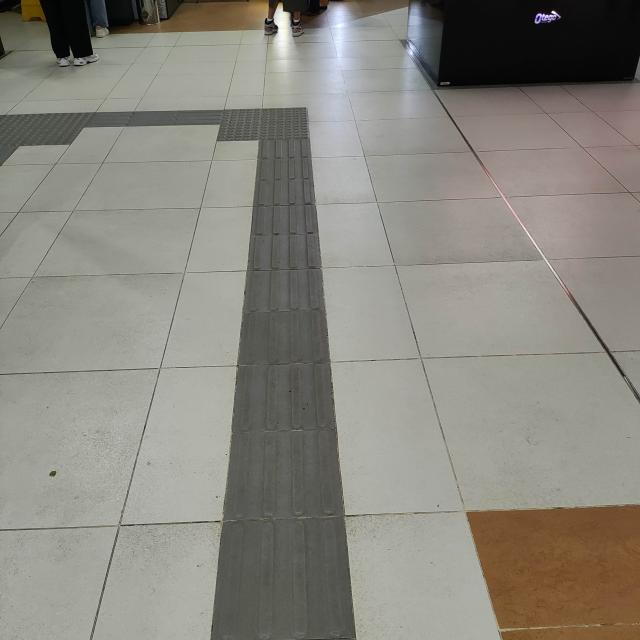kiri: (166, 89, 323, 170)
